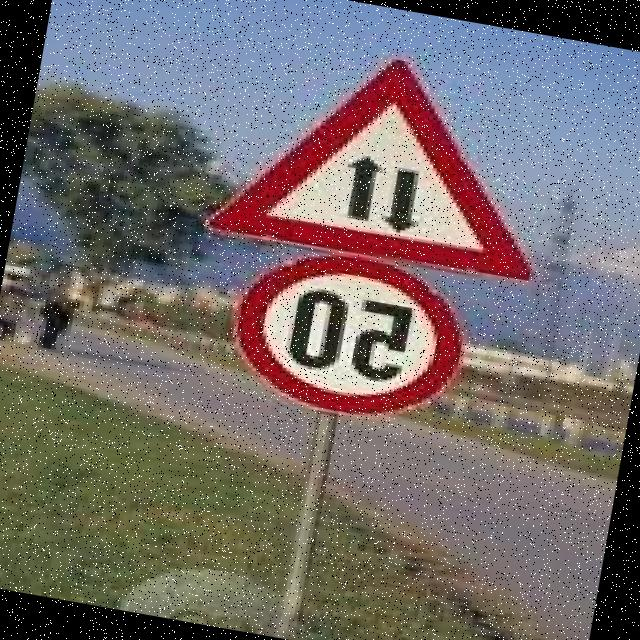speed_limit_50: (206, 233, 481, 441)
